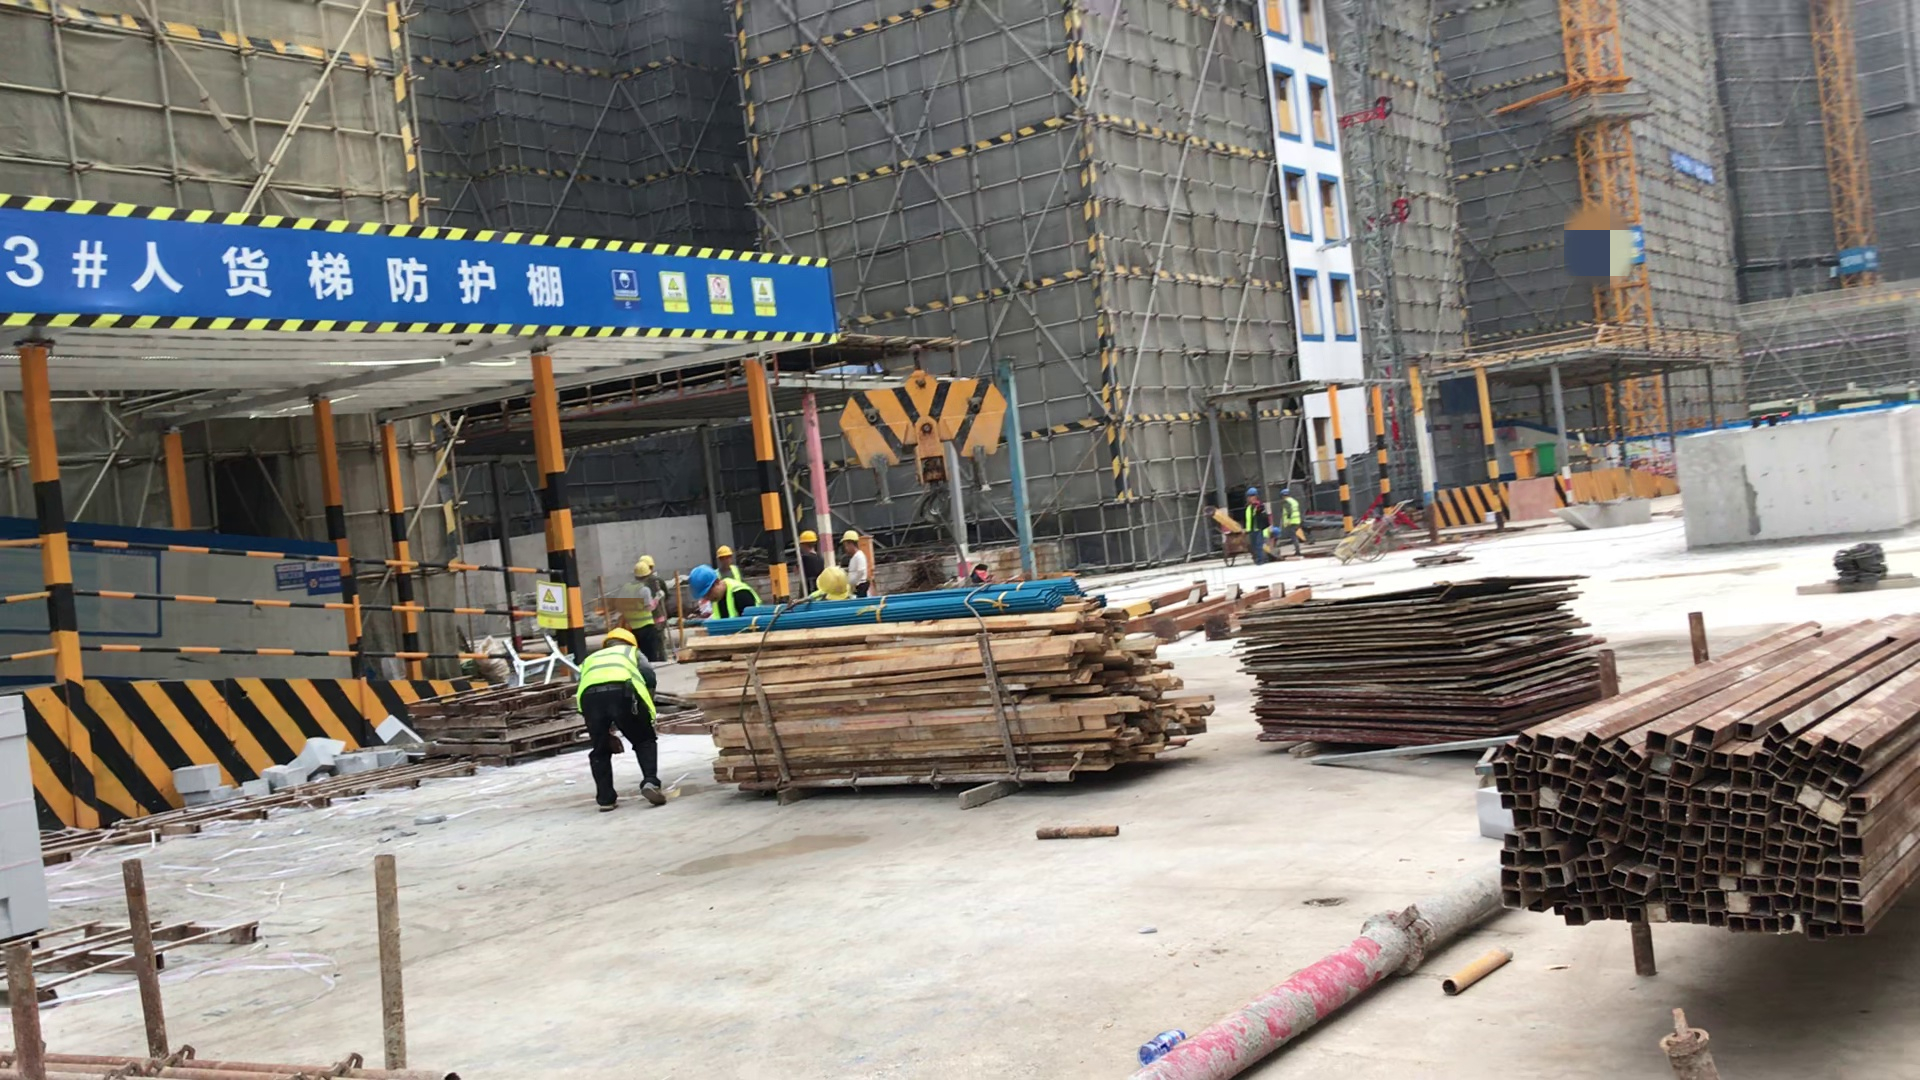board: (1246, 579, 1605, 735)
ebox: (1511, 445, 1538, 477)
handcart: (1337, 514, 1396, 562), (1214, 530, 1252, 565)
helmet: (818, 566, 850, 602), (688, 566, 718, 599), (604, 627, 636, 654), (631, 563, 651, 579), (799, 531, 818, 544), (840, 531, 859, 542), (639, 556, 654, 568), (717, 547, 732, 559), (1245, 487, 1259, 497)
hook: (835, 368, 1011, 523)
hopper: (1556, 499, 1652, 530)
person: (581, 624, 665, 816), (687, 566, 761, 619), (620, 564, 661, 656), (840, 529, 873, 597), (1278, 485, 1306, 557), (1244, 488, 1269, 565), (798, 534, 823, 596), (715, 546, 746, 585)
scaffold: (1504, 629, 1916, 927)
slogan: (606, 270, 779, 320), (535, 574, 570, 627), (1670, 146, 1721, 179)
vest: (581, 647, 654, 721), (714, 581, 759, 613), (1284, 499, 1301, 527), (725, 563, 741, 581)
wood: (699, 623, 1214, 781)
